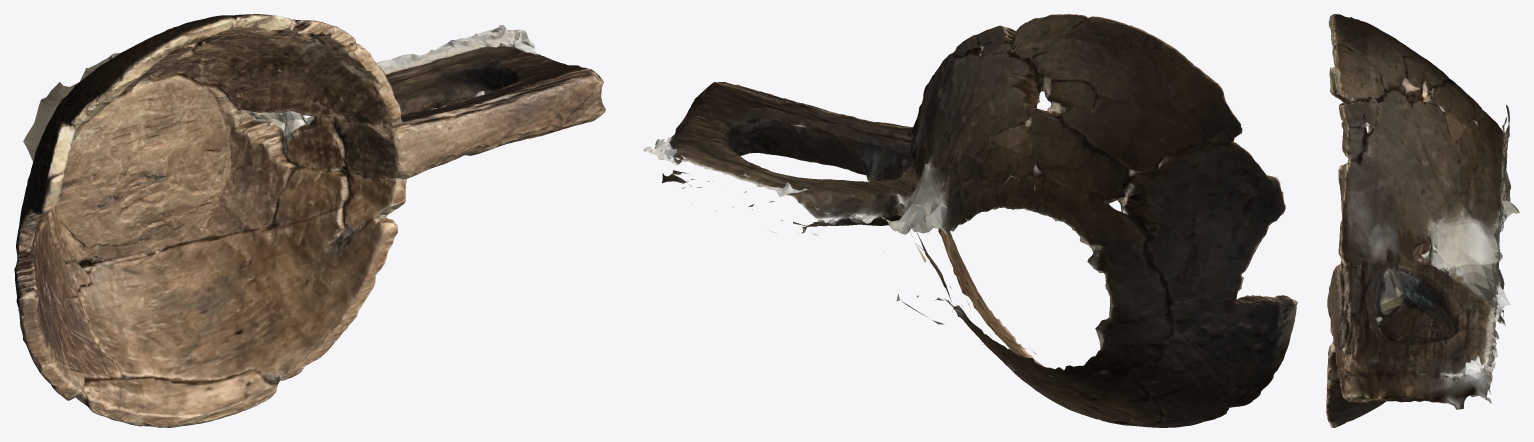
File: wooden_cup.glb
The picture shows the model from 3 angles, left to right: view 1: azimuth 30°, elevation 25°; view 2: azimuth 150°, elevation 25°; view 3: azimuth 270°, elevation 25°; orthographic projection. The views are drawn at different scales.
Parts seen in each view (by area): view 1: default; view 2: default; view 3: default.
Part boxes in pixels (x1=…): default: x1=14, y1=14, x2=605, y2=427; default: x1=643, y1=14, x2=1297, y2=427; default: x1=1326, y1=14, x2=1519, y2=427.
Size of the model in its own units: 24.96 by 16.06 by 7.36.
Materials: 1 (1 with a texture image).
